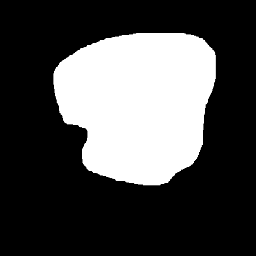mass: (53, 53, 214, 179)
